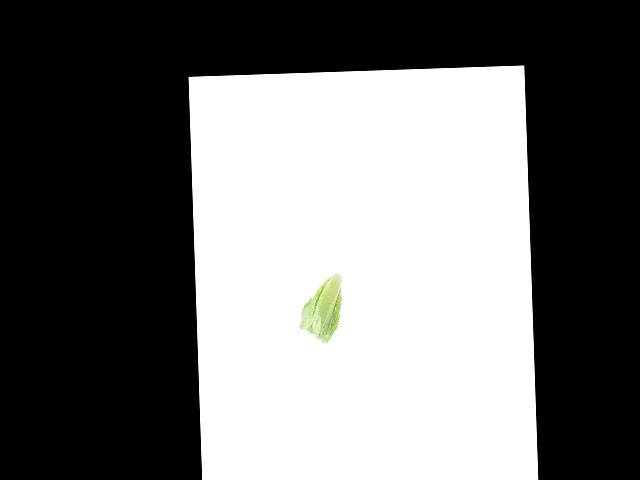lettuce: (297, 267, 344, 344)
